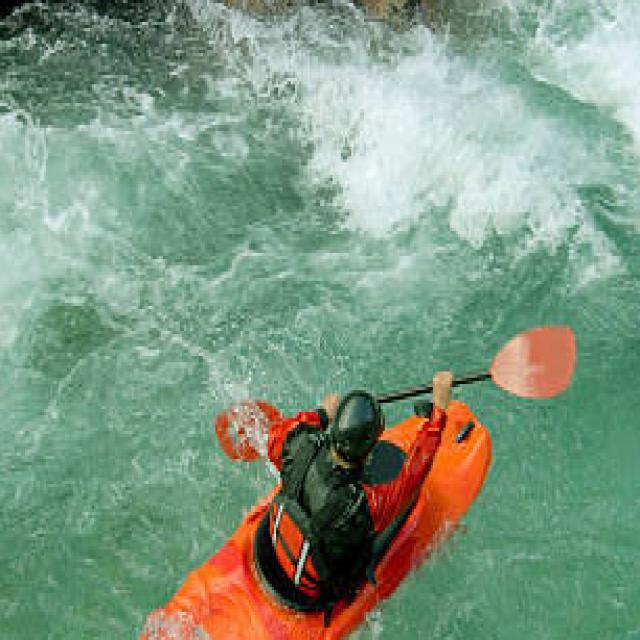kayak: (140, 328, 573, 640)
